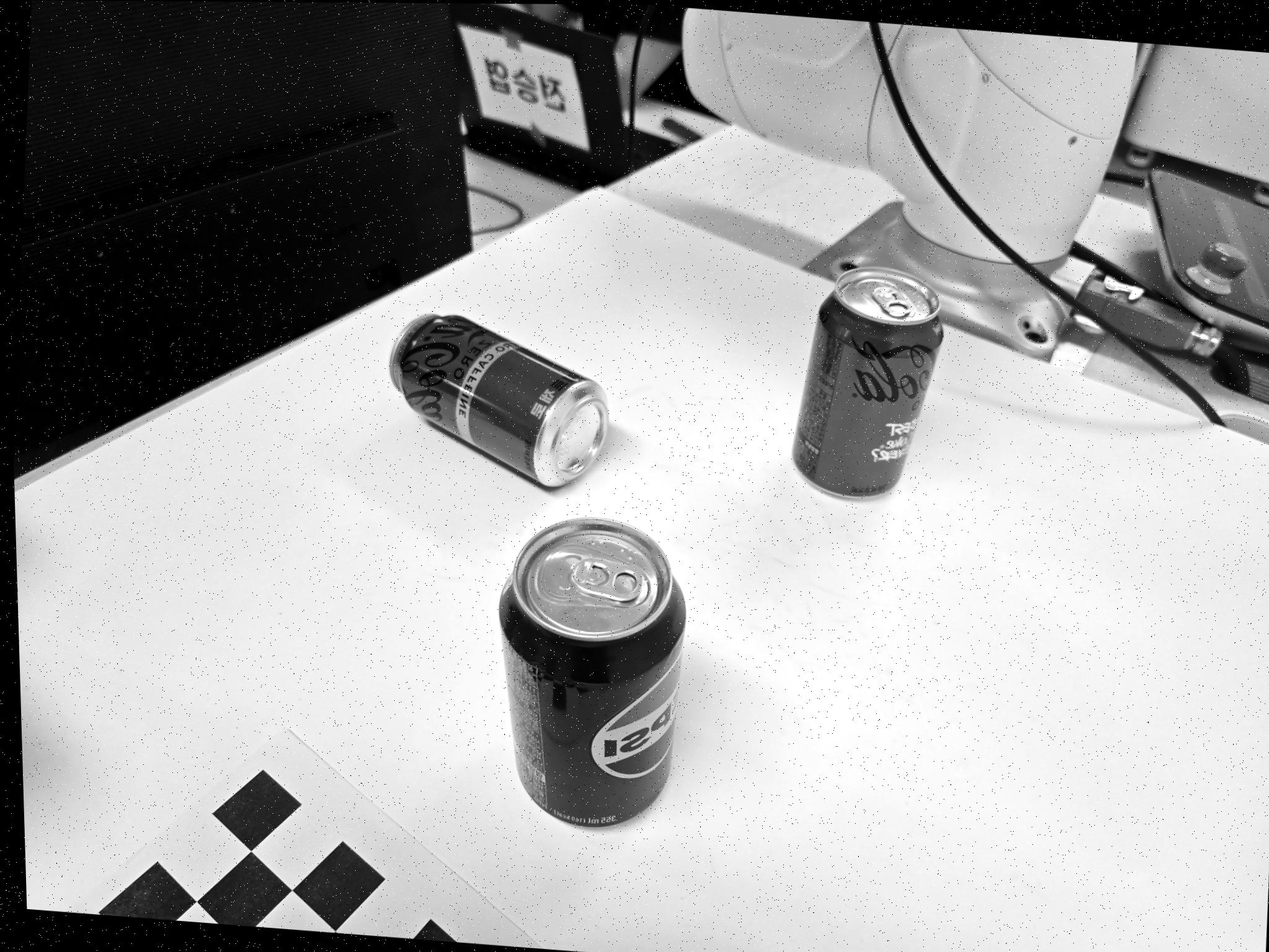can_coke_decaf: (387, 312, 613, 485)
can_coke_zero: (793, 267, 944, 504)
can_pepsi: (500, 521, 687, 826)
